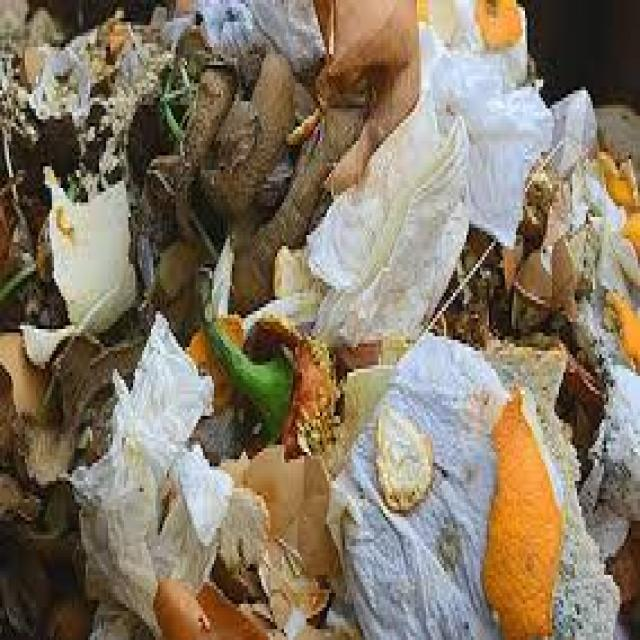food_waste: (31, 94, 563, 608)
